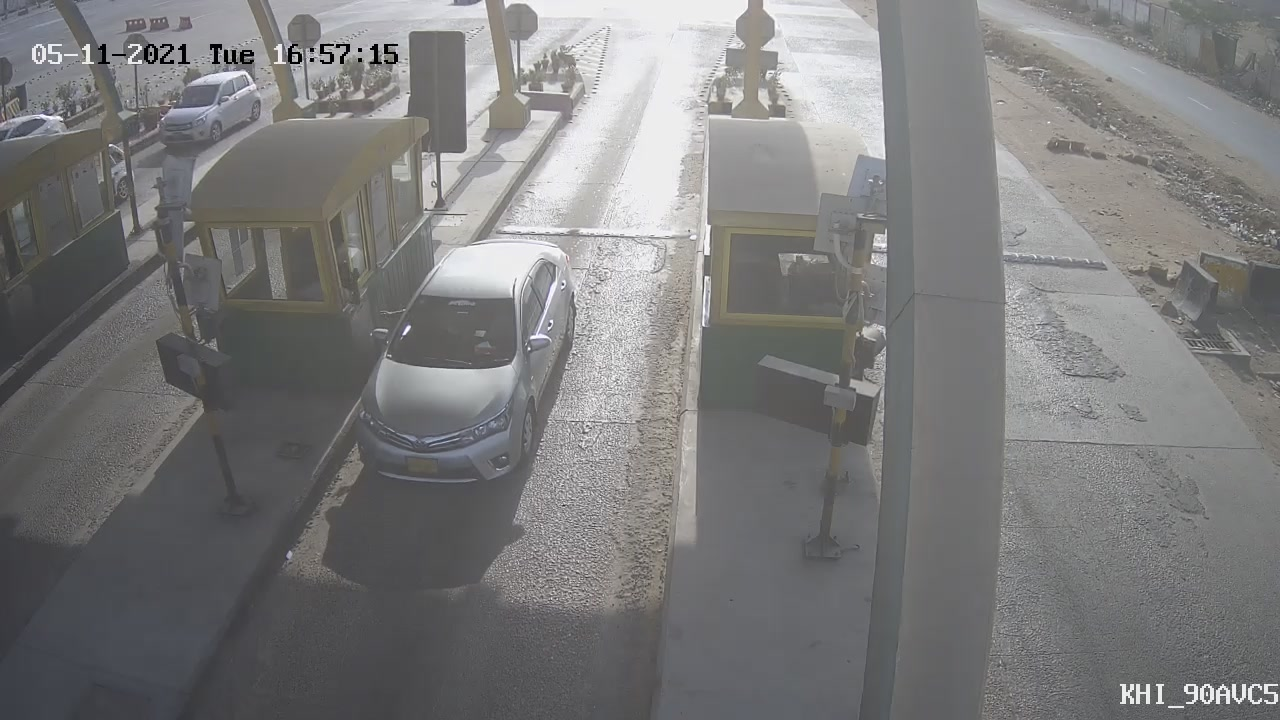F1: (326, 212, 591, 505)
